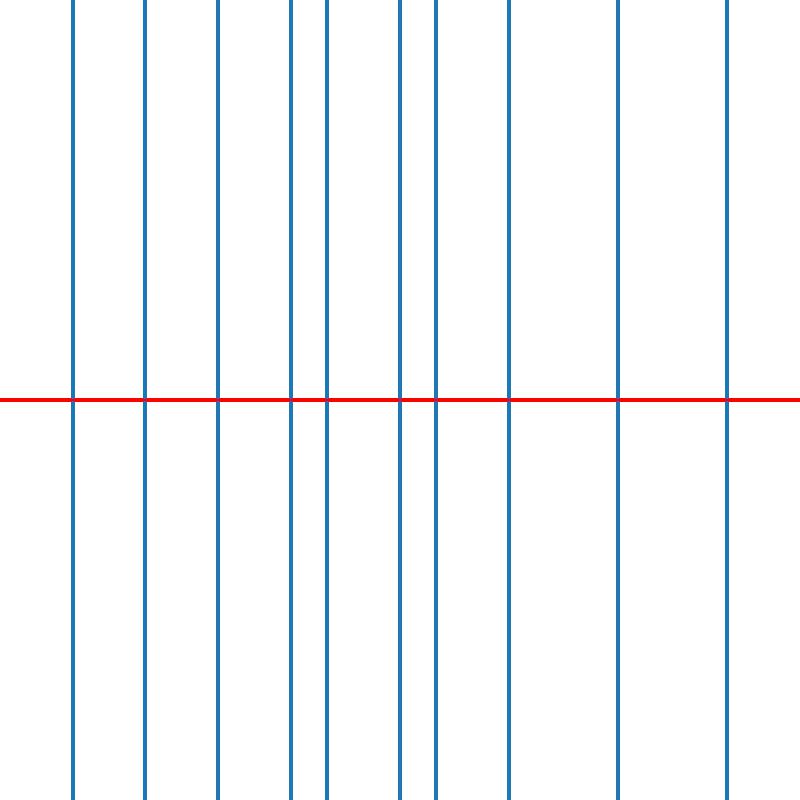root: (141, 396, 149, 404), (432, 396, 440, 404), (214, 396, 221, 404), (323, 396, 330, 404), (69, 396, 76, 404), (287, 396, 294, 404), (614, 396, 621, 404), (505, 396, 512, 404), (723, 396, 730, 404), (396, 396, 403, 404)
